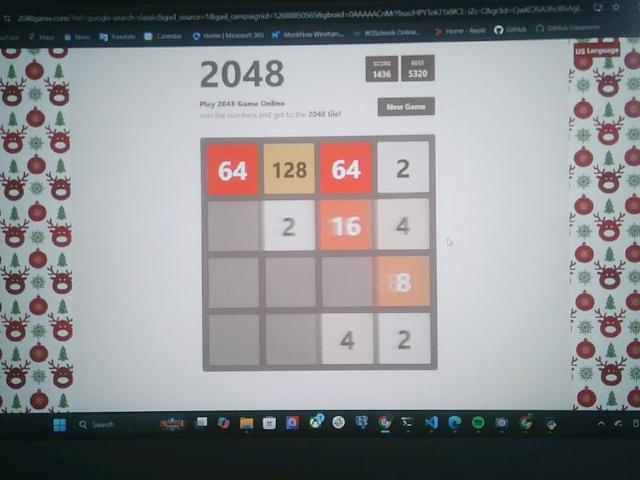board: (202, 137, 437, 370)
tile: (378, 141, 431, 193), (379, 256, 431, 308), (379, 313, 431, 365), (320, 142, 372, 193), (265, 199, 316, 251), (323, 313, 374, 365), (321, 199, 372, 250), (377, 199, 429, 249), (207, 145, 258, 195), (264, 143, 315, 193)
